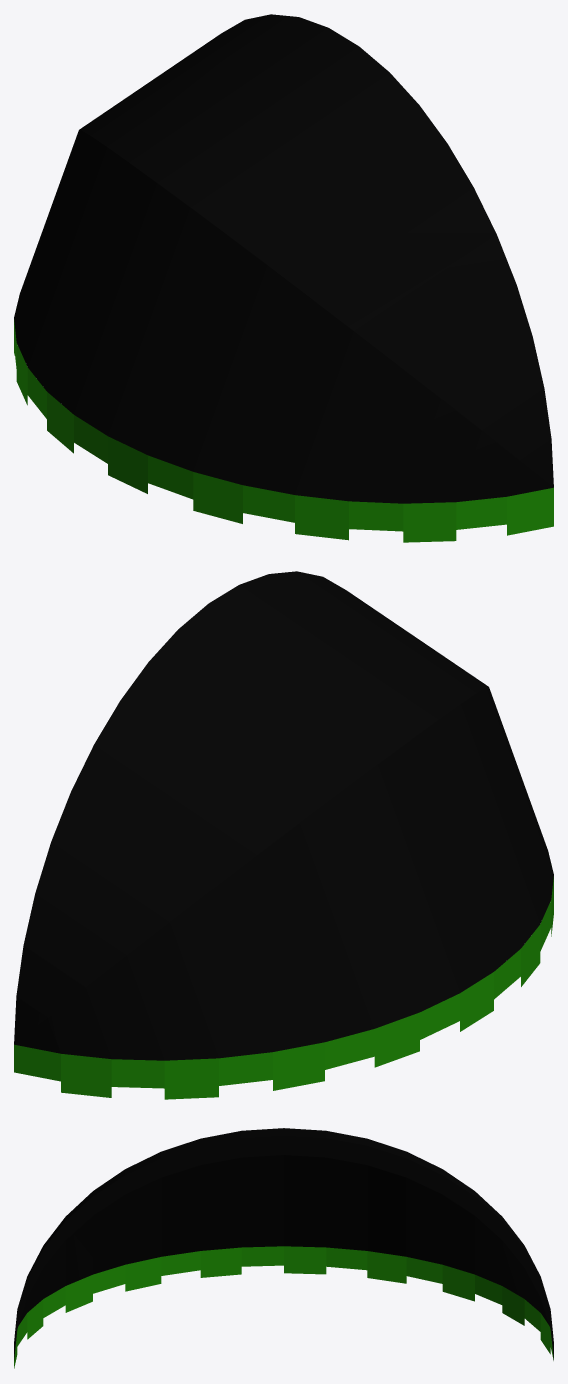
The model's file is Awning03_KW.fbx.
3 renders of one model, top to bottom at view 1: azimuth 30°, elevation 25°; view 2: azimuth 150°, elevation 25°; view 3: azimuth 270°, elevation 25°, orthographic. The views are drawn at different scales.
Parts seen in each view (by area): view 1: Awning03_KW; view 2: Awning03_KW; view 3: Awning03_KW.
Part boxes in pixels (bbox=[...]): Awning03_KW: bbox=[14, 14, 553, 542]; Awning03_KW: bbox=[14, 571, 553, 1099]; Awning03_KW: bbox=[14, 1128, 553, 1368].
Size of the model in its own units: 135 by 153 by 320.
